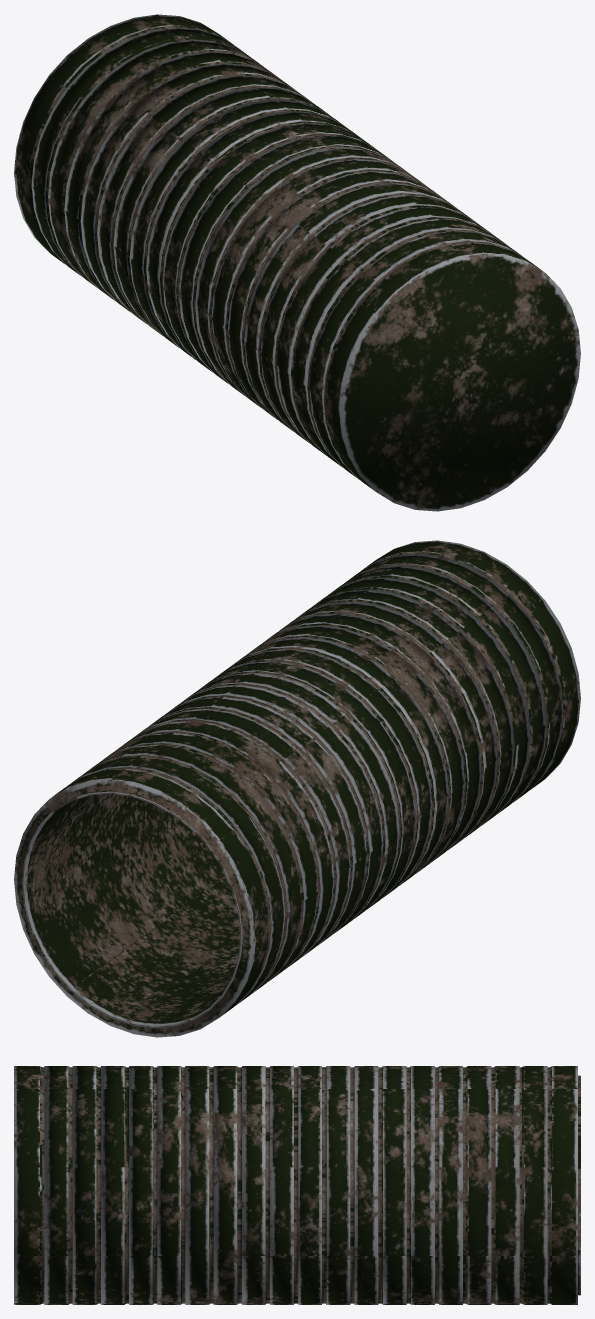
File: sewer_pipe.glb
The picture shows the model from 3 angles, top to bottom: view 1: azimuth 30°, elevation 25°; view 2: azimuth 150°, elevation 25°; view 3: azimuth 270°, elevation 25°; orthographic projection. The views are drawn at different scales.
Parts seen in each view (by area): view 1: Cylinder; view 2: Cylinder; view 3: Cylinder.
Part boxes in pixels (x1=…): Cylinder: x1=14, y1=14, x2=580, y2=511; Cylinder: x1=14, y1=540, x2=580, y2=1037; Cylinder: x1=14, y1=1066, x2=580, y2=1304.
Bounding box in the file's own units: 2 × 2 × 4.75.
1 material, 1 textured.
